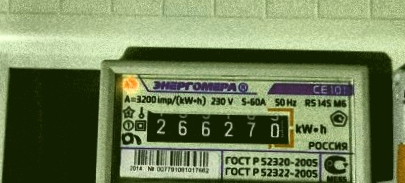0: (268, 121, 280, 138)
2: (153, 116, 166, 134), (222, 118, 233, 137)
6: (176, 117, 188, 136), (199, 119, 211, 137)
7: (245, 119, 256, 137)
screen: (136, 100, 300, 153)
